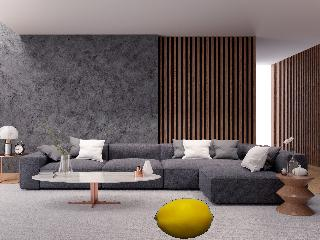lemon: (148, 194, 219, 240)
